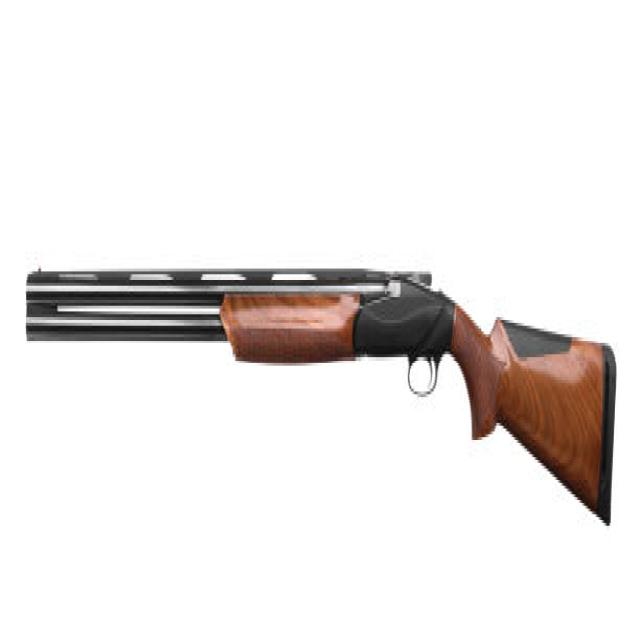rifle: (21, 244, 624, 546)
